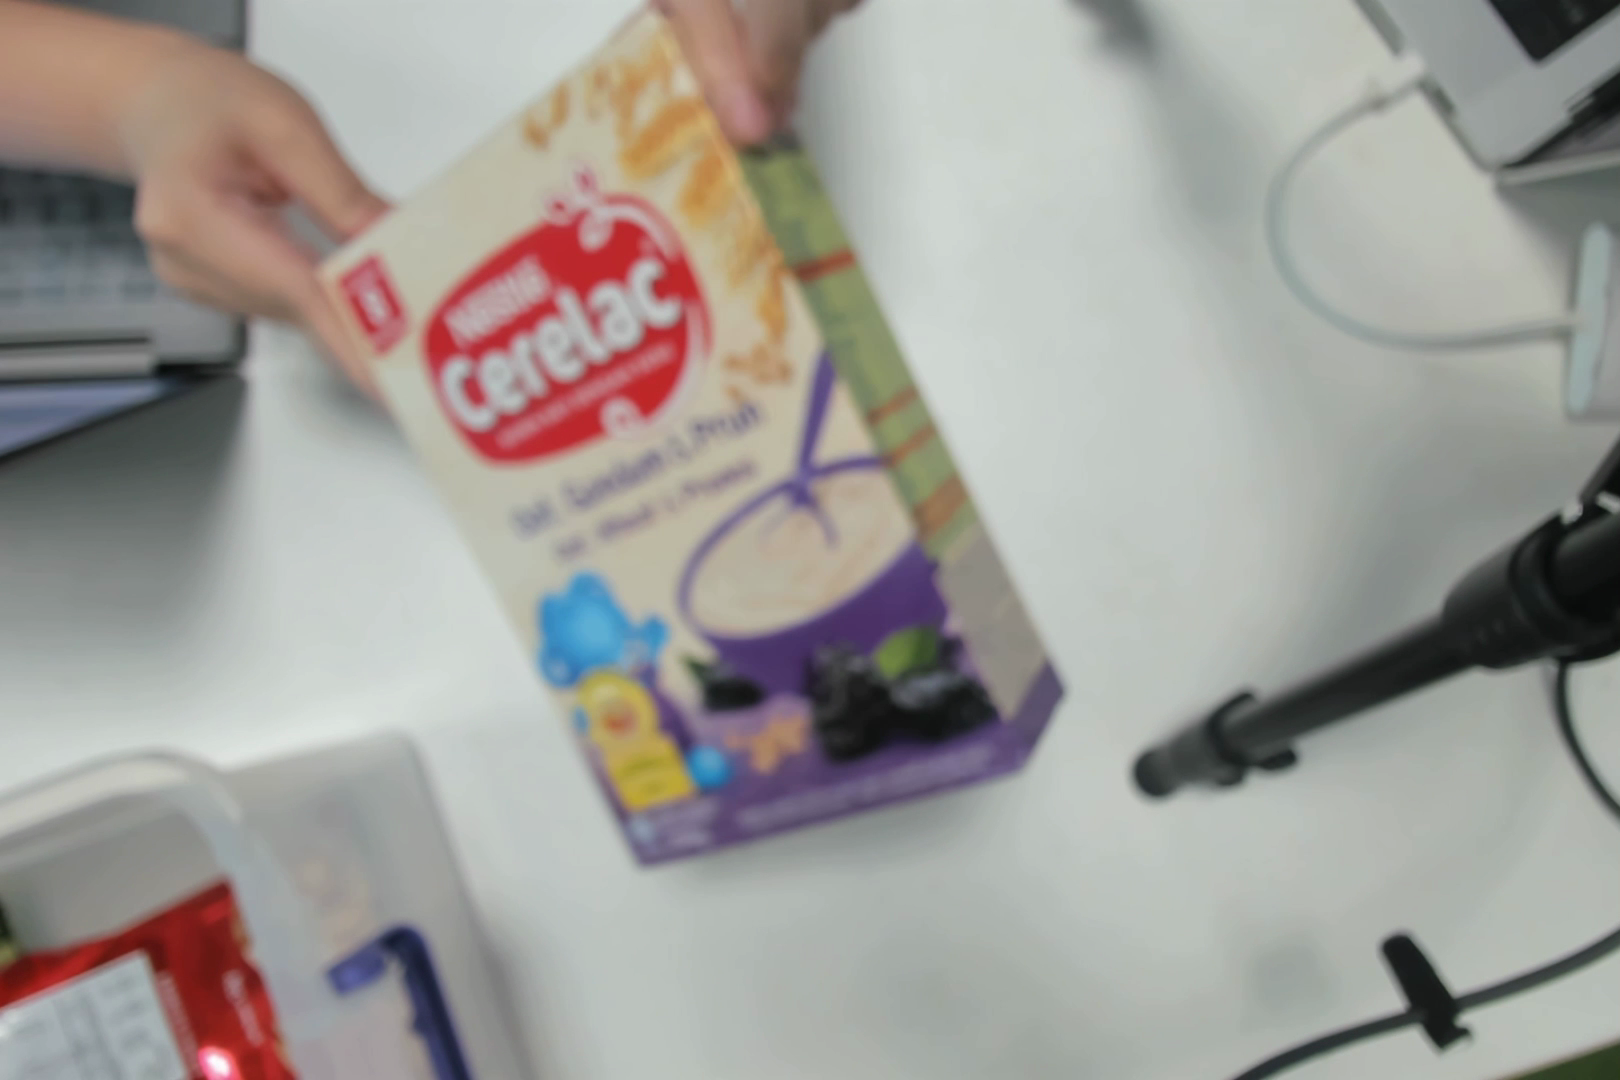d: (357, 235, 1002, 865)
